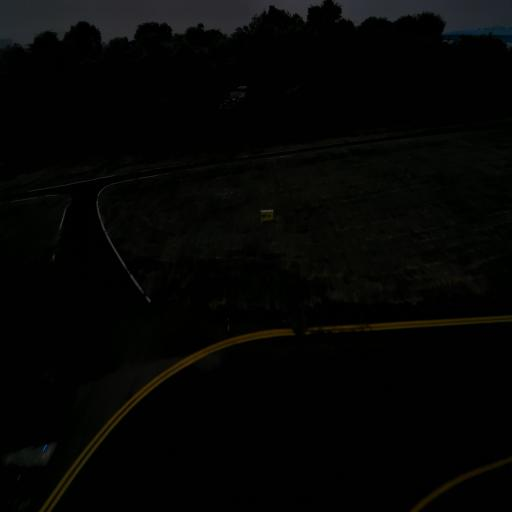on: (40, 439, 50, 456)
